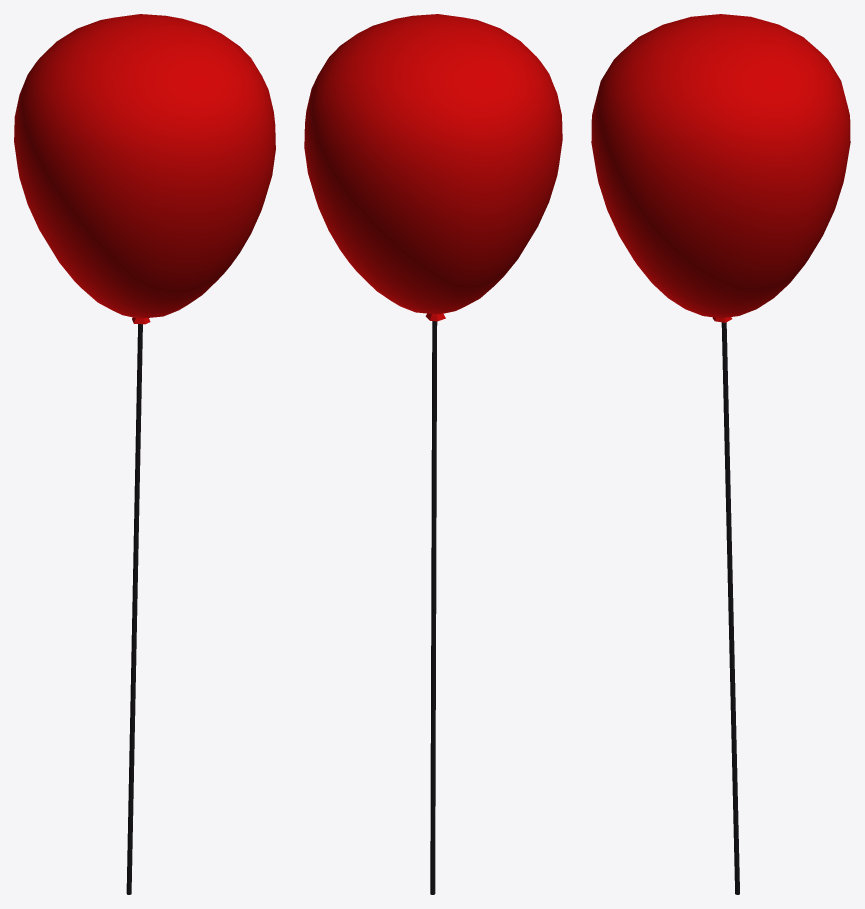
The model's file is baloon_hp.obj.
The picture shows the model from 3 angles, left to right: view 1: azimuth 30°, elevation 25°; view 2: azimuth 150°, elevation 25°; view 3: azimuth 270°, elevation 25°; orthographic projection.
Visible parts, largest first — view 1: Cube.002, Cylinder; view 2: Cube.002, Cylinder; view 3: Cube.002, Cylinder.
Part boxes in pixels (bbox=[...]): Cube.002: bbox=[14, 14, 275, 318]; Cylinder: bbox=[126, 324, 142, 894]; Cube.002: bbox=[304, 14, 562, 314]; Cylinder: bbox=[430, 321, 437, 894]; Cube.002: bbox=[591, 14, 850, 318]; Cylinder: bbox=[721, 322, 739, 894].
Bounding box in the file's own units: 1.19 × 4.39 × 1.19.
